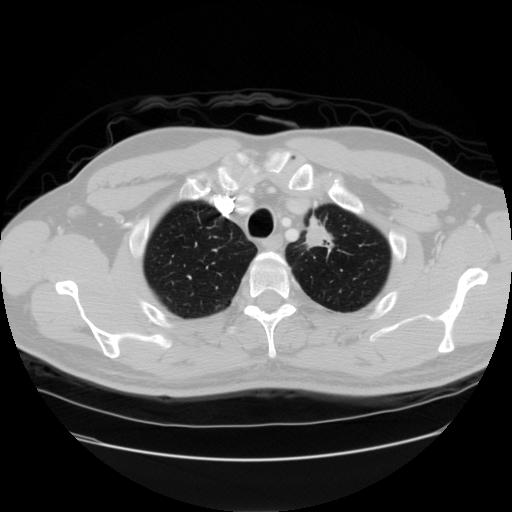nodule: (300, 218, 335, 253)
